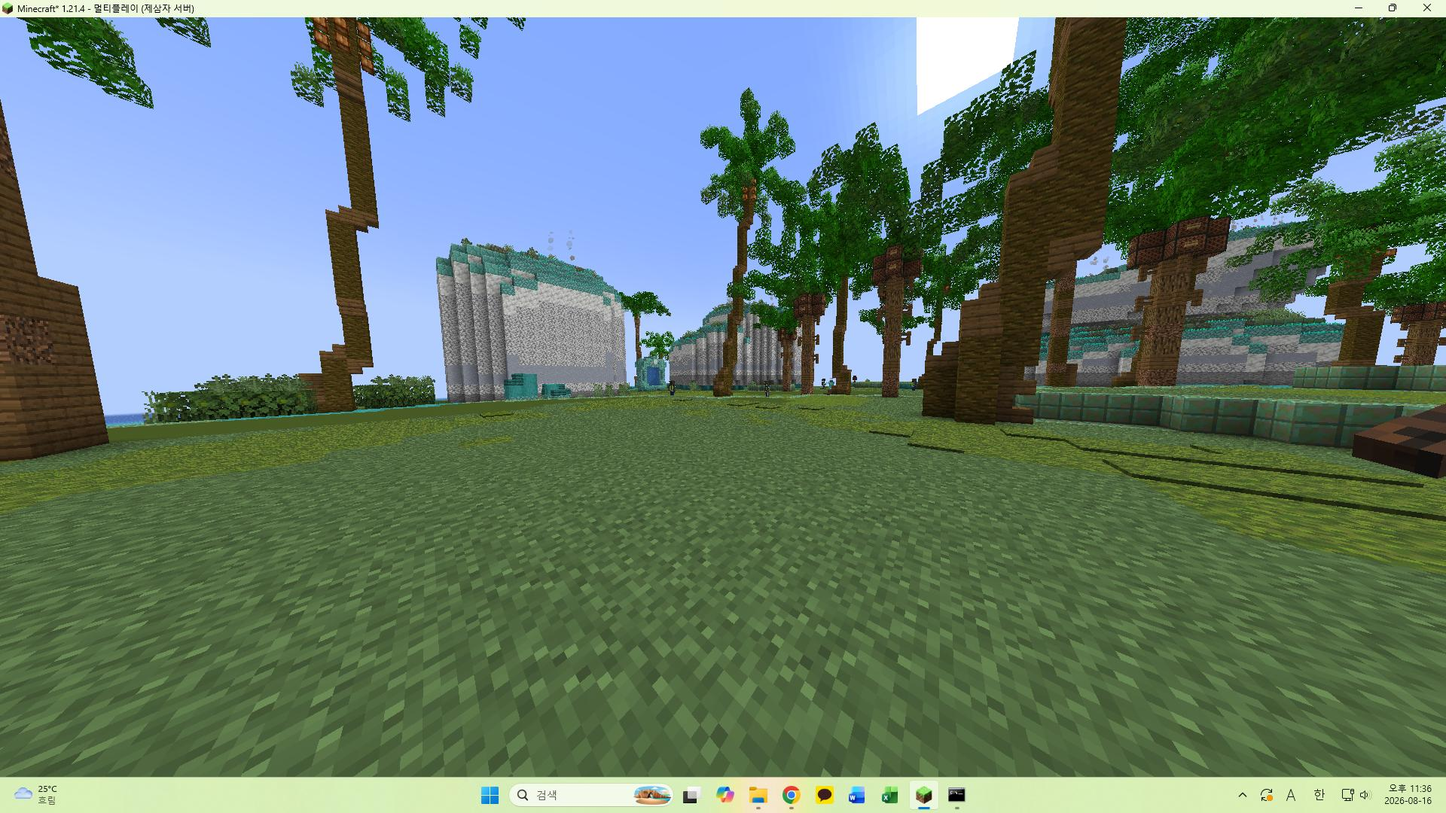Guardian: (669, 379, 676, 394)
